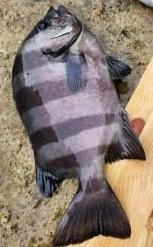fish: (11, 4, 146, 246)
